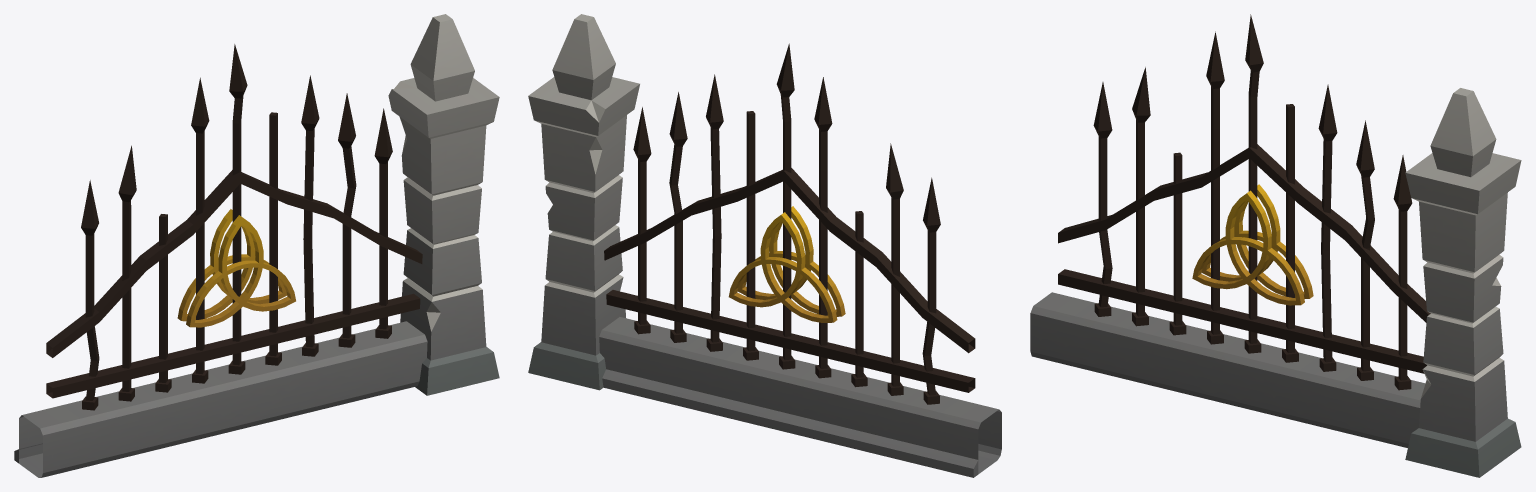
File: School_fence_01.fbx
The picture shows the model from 3 angles, left to right: view 1: azimuth 30°, elevation 25°; view 2: azimuth 150°, elevation 25°; view 3: azimuth 330°, elevation 25°; orthographic projection. The views are drawn at different scales.
Visible parts, largest first — view 1: Fence_1.001; view 2: Fence_1.001; view 3: Fence_1.001.
Boxes of the visible parts, x1,y1,x2,y2 form: Fence_1.001: [14, 14, 499, 477]; Fence_1.001: [528, 14, 1001, 477]; Fence_1.001: [1030, 14, 1521, 477].
Bounding box in the file's own units: 3.7 × 2.99 × 0.5872.
